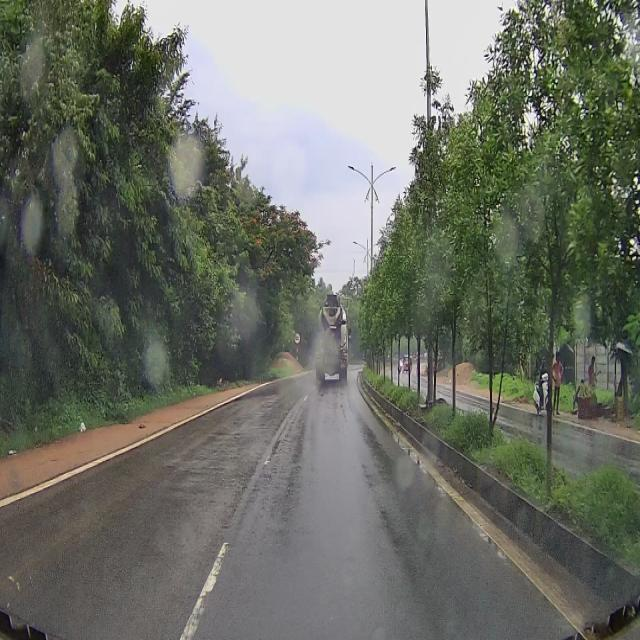truck ahead at: (307, 292, 359, 391)
